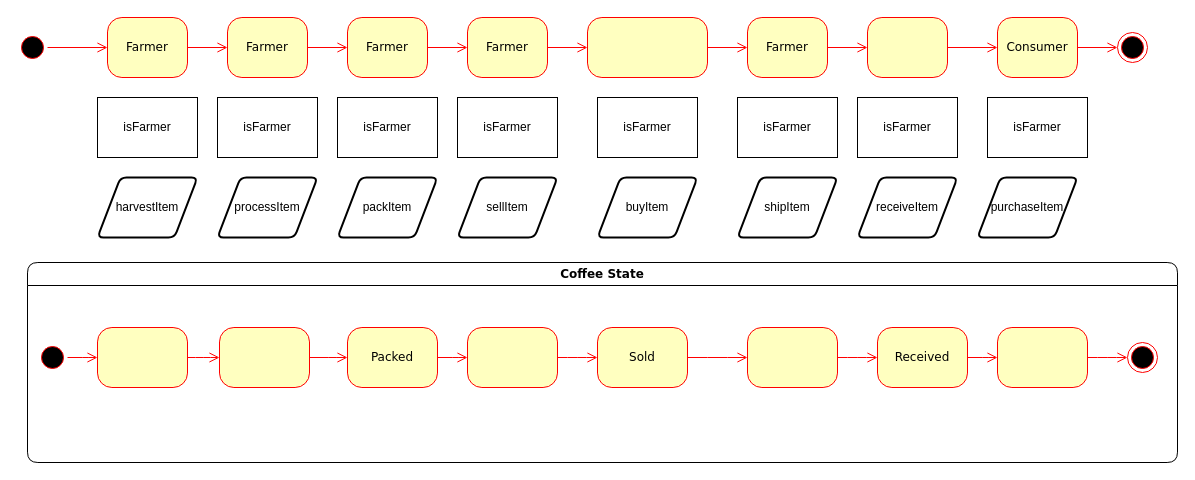
The diagram is 1195 pixels wide and 480 high, and some of its shapes have lost their labels. The box of each missing label's shape, as (x1, y1, x2, y2) in pixels:
Distributor: (586, 16, 708, 78)
ForSale: (466, 326, 558, 388)
Harvested: (96, 326, 188, 388)
Processed: (218, 326, 310, 388)
Purchased: (996, 326, 1088, 388)
Retailer: (866, 16, 948, 78)
Shipped: (746, 326, 838, 388)
